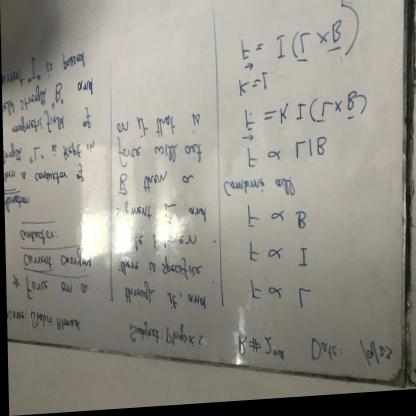Handwritten text: (9, 73, 101, 122), (17, 32, 96, 88), (110, 194, 211, 231), (7, 105, 99, 143), (112, 140, 212, 174), (124, 321, 213, 359), (118, 286, 217, 320), (112, 254, 207, 288), (111, 110, 208, 141), (221, 173, 298, 208), (114, 232, 202, 258), (20, 273, 89, 305), (22, 247, 94, 277), (23, 309, 86, 341), (16, 165, 91, 191), (307, 336, 338, 369), (293, 138, 326, 168), (296, 280, 317, 321), (241, 210, 266, 234), (248, 280, 266, 310), (240, 152, 262, 174), (245, 241, 261, 270), (294, 248, 310, 276), (289, 213, 307, 237)
